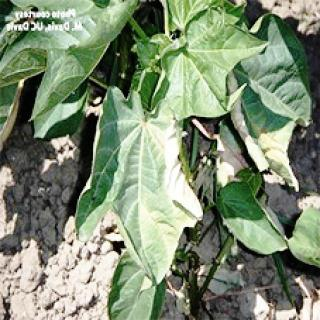wilt: (92, 103, 204, 265), (224, 97, 292, 197)
